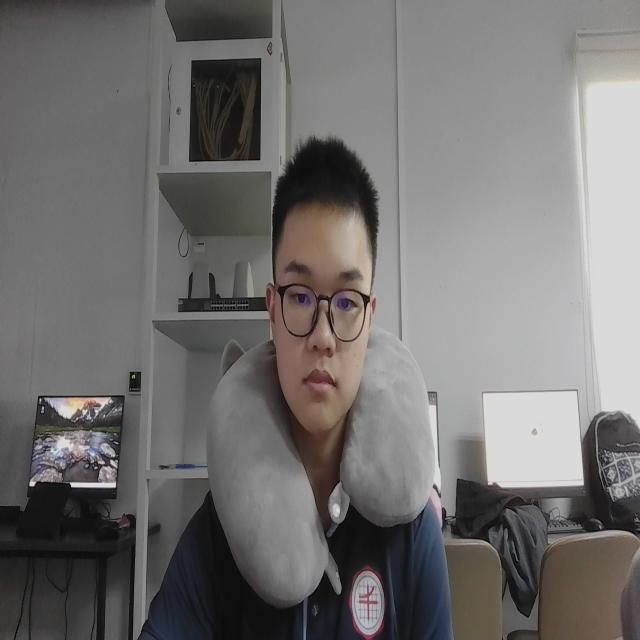pillow: (203, 313, 435, 612)
